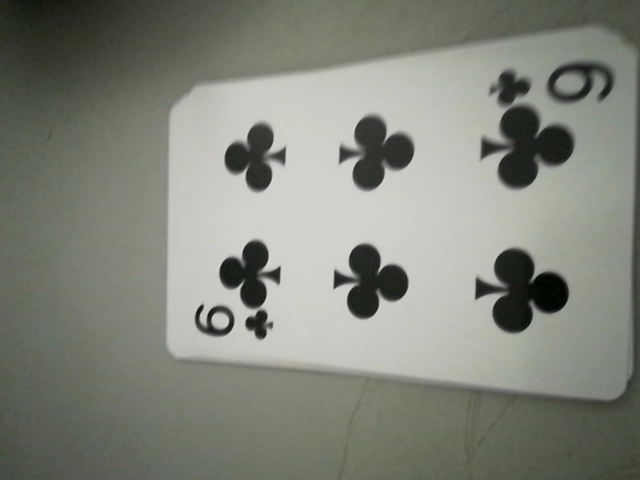mh 6: (488, 54, 618, 112), (192, 300, 277, 348)
